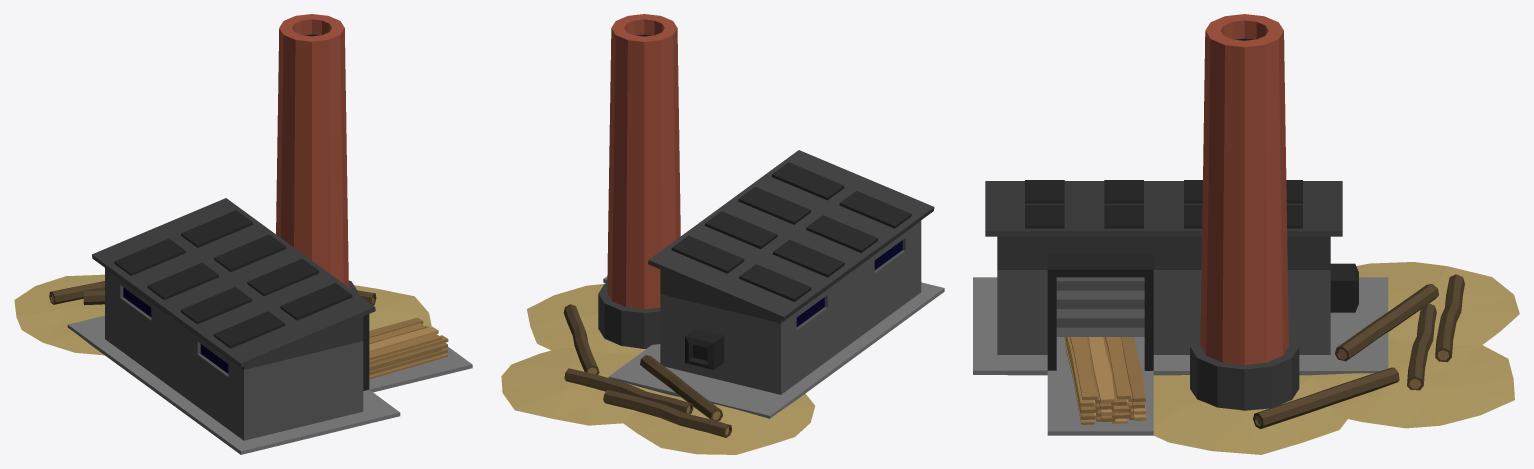
Rendered from factory.fbx.
3 views of the same model, side by side, from view 1: azimuth 30°, elevation 25°; view 2: azimuth 150°, elevation 25°; view 3: azimuth 270°, elevation 25° (orthographic). The views are drawn at different scales.
Visible parts, largest first — view 1: factory; view 2: factory; view 3: factory.
Boxes of the visible parts, bbox=[...] form: factory: bbox=[14, 14, 472, 454]; factory: bbox=[501, 14, 944, 454]; factory: bbox=[973, 14, 1519, 454].
Size of the model in its own units: 15.03 by 13.09 by 18.02.
Materials: 1 (1 with a texture image).
